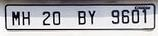0: (52, 10, 62, 27), (131, 10, 140, 24)
1: (141, 8, 149, 24)
2: (40, 10, 54, 27)
6: (121, 8, 131, 23)
9: (109, 8, 121, 25)
B: (75, 10, 89, 26)
H: (21, 9, 33, 26)
M: (10, 8, 22, 27)
Y: (88, 9, 98, 27)
